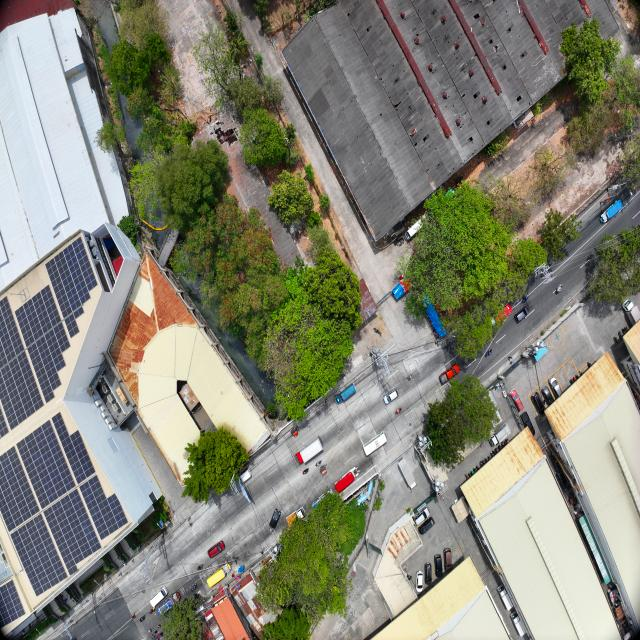Tree: (186, 199, 291, 362), (405, 180, 509, 320), (263, 273, 353, 427), (260, 494, 350, 619), (151, 141, 232, 230), (559, 18, 621, 107), (306, 249, 364, 333), (568, 80, 626, 158), (590, 224, 640, 306), (112, 33, 173, 98), (200, 426, 249, 496), (447, 380, 500, 444), (239, 107, 288, 172), (483, 173, 534, 233), (426, 399, 466, 468), (538, 208, 584, 268), (118, 0, 168, 54), (456, 309, 505, 363), (269, 170, 314, 228), (230, 74, 282, 121), (180, 440, 213, 510), (530, 146, 574, 196), (612, 54, 640, 131), (160, 597, 207, 640), (259, 604, 312, 640), (514, 240, 550, 276), (95, 117, 125, 155), (159, 64, 180, 107), (127, 85, 150, 120), (228, 33, 249, 66), (117, 213, 137, 247), (253, 0, 270, 21), (308, 210, 321, 230), (318, 193, 331, 212), (304, 162, 314, 182)
